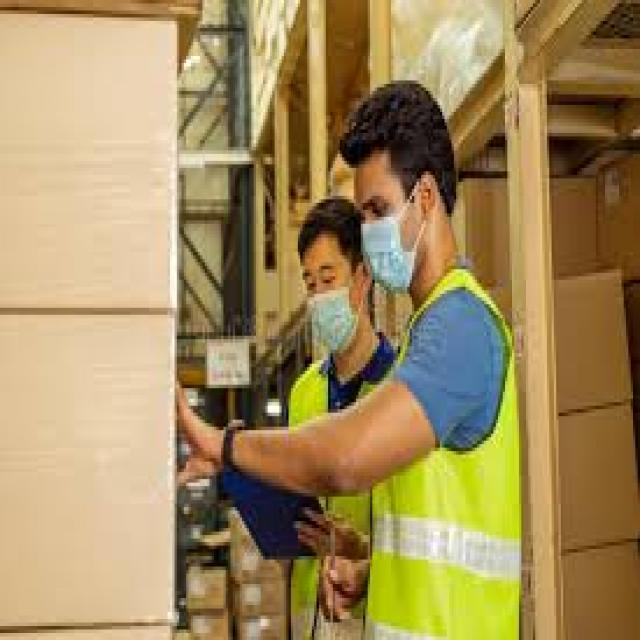Reflective-Jacket: (358, 273, 544, 636), (275, 346, 386, 630)
